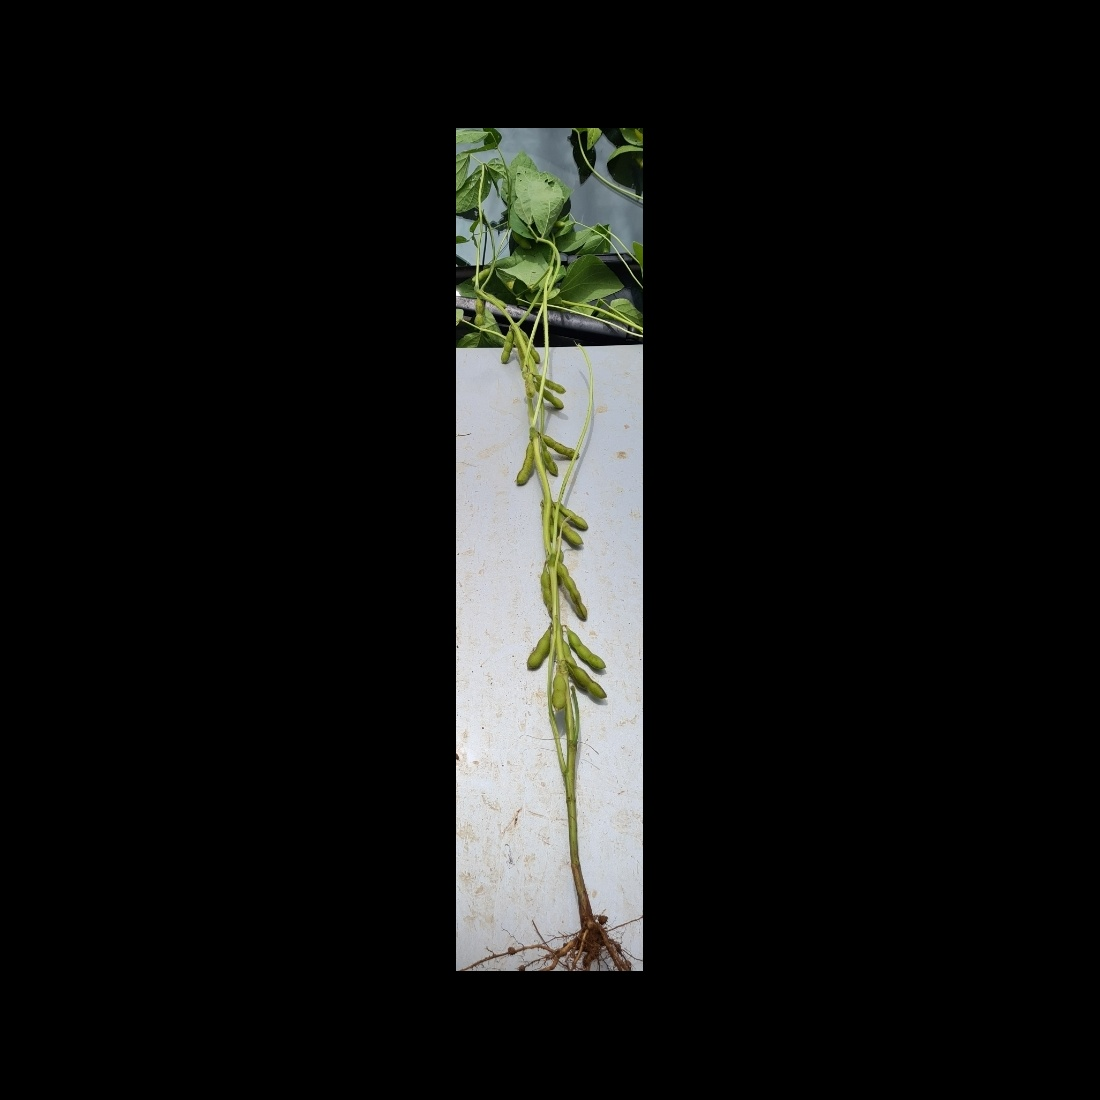pod: (568, 626, 609, 671), (558, 562, 590, 620), (525, 626, 554, 672), (572, 665, 609, 700), (534, 384, 565, 410), (517, 442, 535, 485), (537, 370, 566, 393), (499, 327, 516, 367), (541, 445, 560, 478), (552, 671, 566, 714), (475, 296, 489, 330), (512, 232, 533, 250)
soy: (478, 176, 628, 946)
